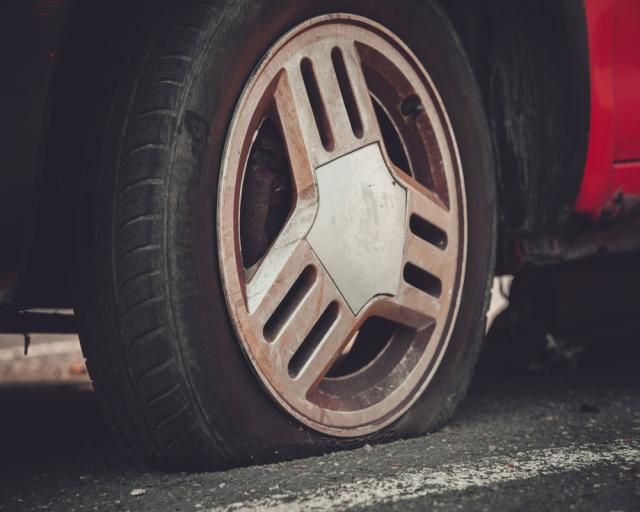tire flat: (74, 0, 495, 477)
